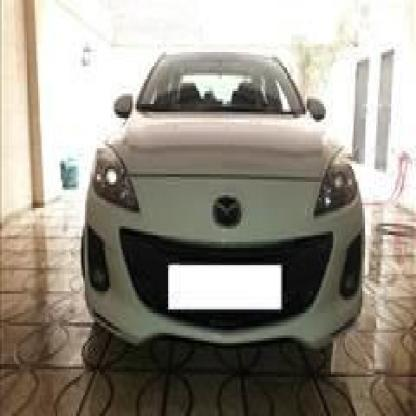Car: (66, 46, 357, 366)
